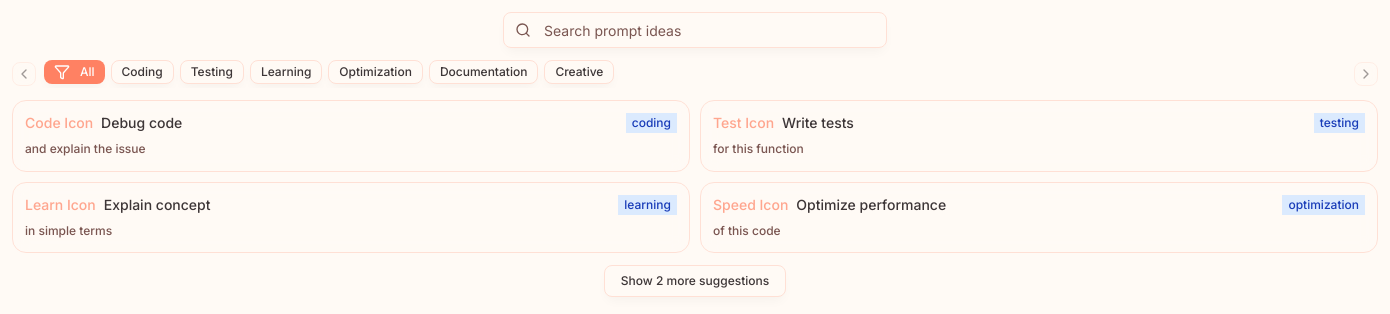
Test: SuggestedPrompts Component › Category Filtering › shows all suggestions when "All" category is selected
# First select a specific category
Click the button "coding" at (142, 72), box left=111, top=60, right=174, bottom=84
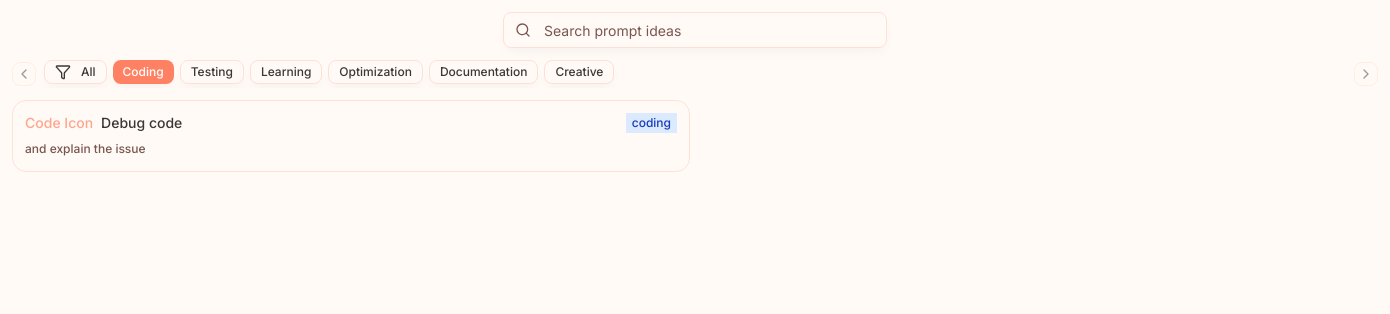
# Then click "All" to show all suggestions
Click the button "All" at (75, 72), box left=44, top=60, right=107, bottom=84
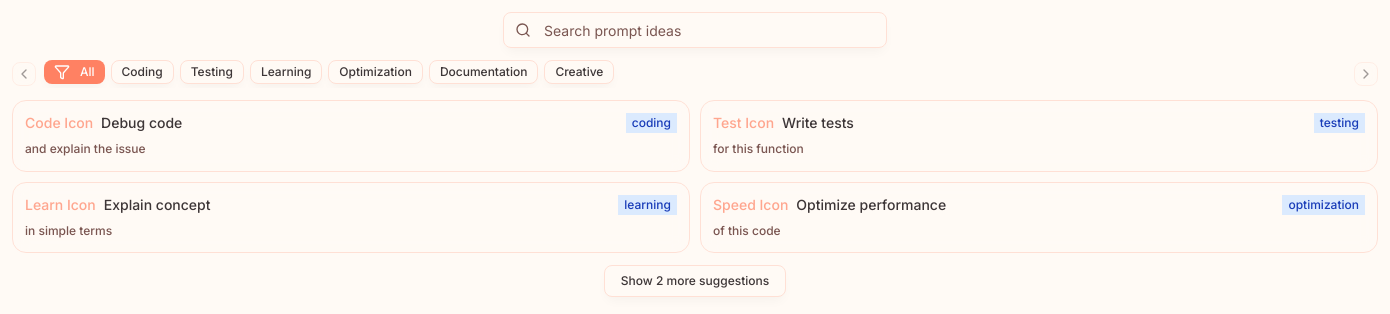
expect the text "Debug code" is shown: met, box left=101, top=113, right=182, bottom=133
expect the text "Write tests" is shown: met, box left=782, top=113, right=854, bottom=133
expect the text "Explain concept" is shown: met, box left=104, top=194, right=211, bottom=214
